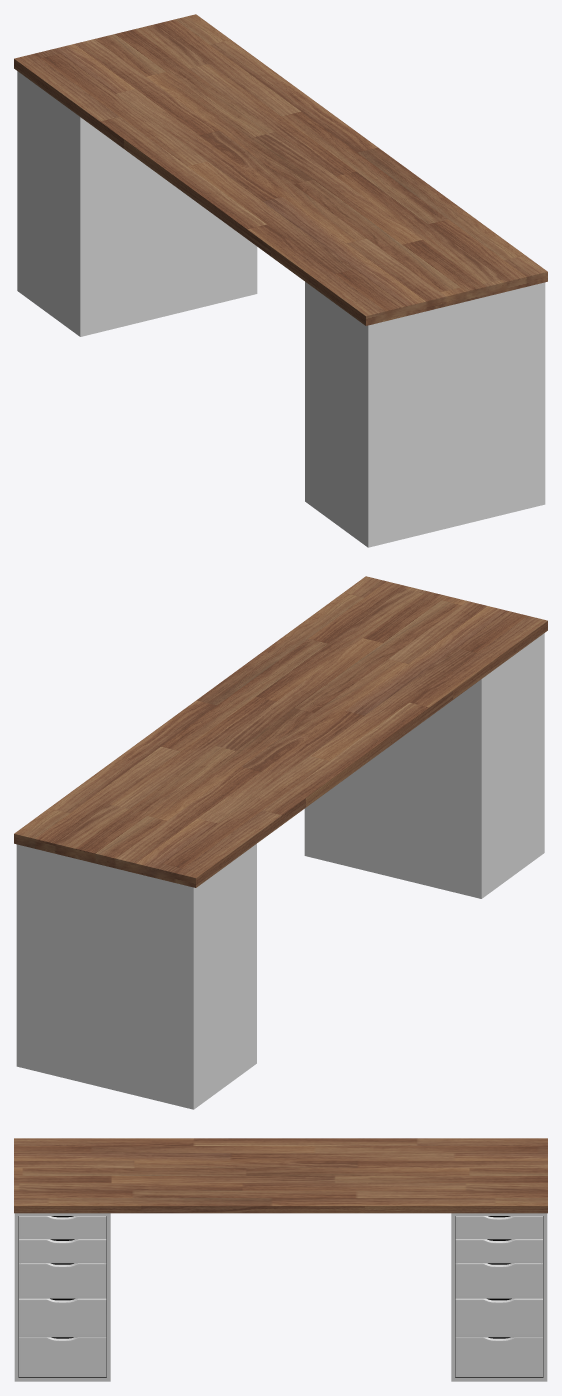
File: alex desk 79 24.glb
3 views of the same model, one above another, from view 1: azimuth 30°, elevation 25°; view 2: azimuth 150°, elevation 25°; view 3: azimuth 270°, elevation 25° (orthographic). The views are drawn at different scales.
Visible parts, largest first — view 1: Cube, Plane; view 2: Cube, Plane; view 3: Plane, Cube.
Boxes of the visible parts, x1,y1,x2,y2 form: Cube: (17, 71, 545, 547); Plane: (14, 14, 547, 325); Cube: (16, 633, 544, 1109); Plane: (14, 576, 547, 887); Plane: (14, 1138, 547, 1213); Cube: (14, 1213, 547, 1381).
Bounding box in the file's own units: 23.52 × 28.71 × 78.75.
3 materials, 1 textured.
